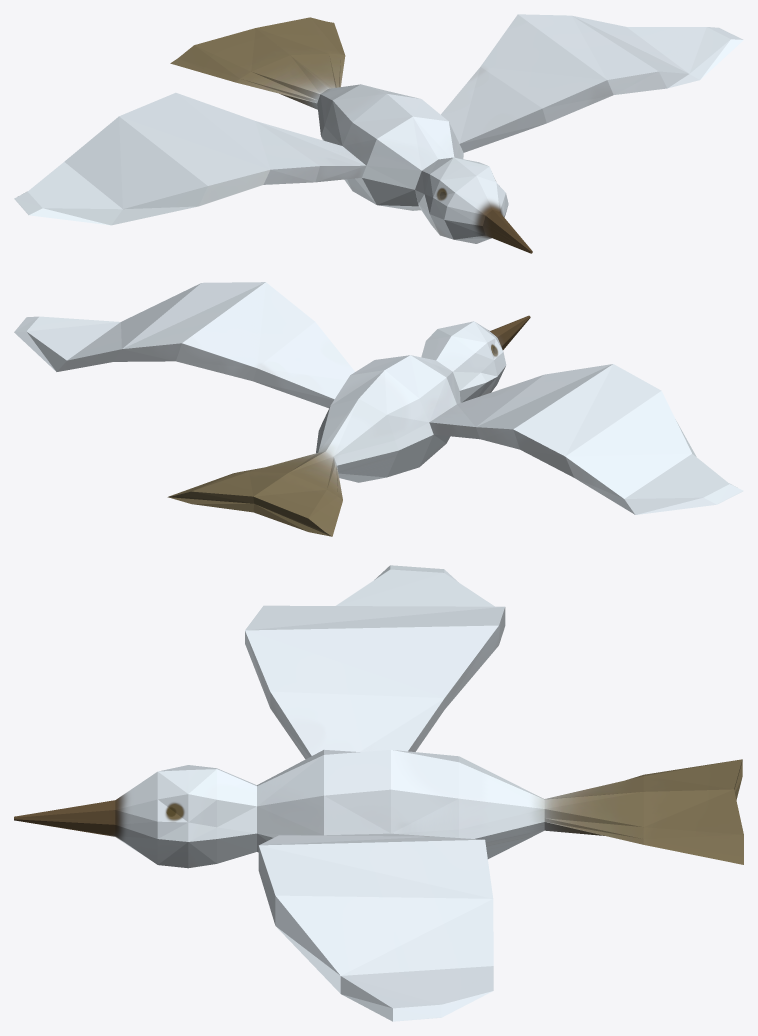
Rendered from SM_bird_AC.fbx.
The picture shows the model from 3 angles, top to bottom: view 1: azimuth 30°, elevation 25°; view 2: azimuth 150°, elevation 25°; view 3: azimuth 270°, elevation 25°; orthographic projection. The views are drawn at different scales.
Visible parts, largest first — view 1: SM_bird_AC; view 2: SM_bird_AC; view 3: SM_bird_AC.
Part boxes in pixels (x1,y1,x2,y2): SM_bird_AC: (14,14,743,253); SM_bird_AC: (14,282,743,536); SM_bird_AC: (14,565,743,1021).
Size of the model in its own units: 20.22 by 13.67 by 3.14.
